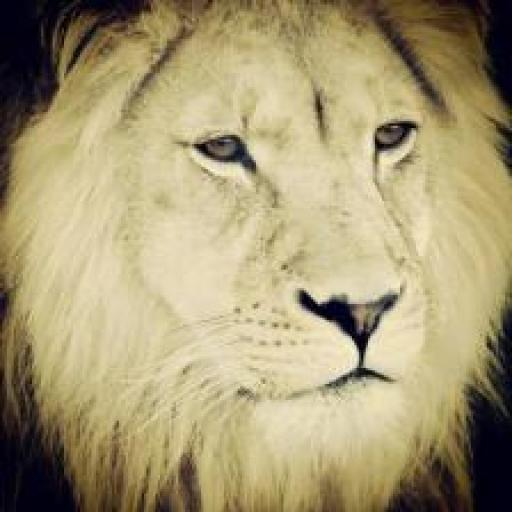lion: (2, 16, 510, 512)
